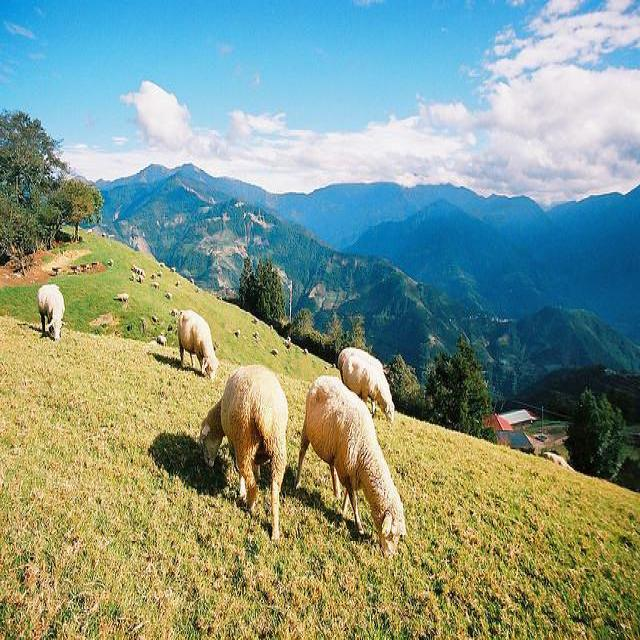Sheep: (84, 225, 312, 359), (298, 371, 403, 559), (199, 366, 292, 544), (344, 355, 396, 424), (177, 312, 219, 383)
